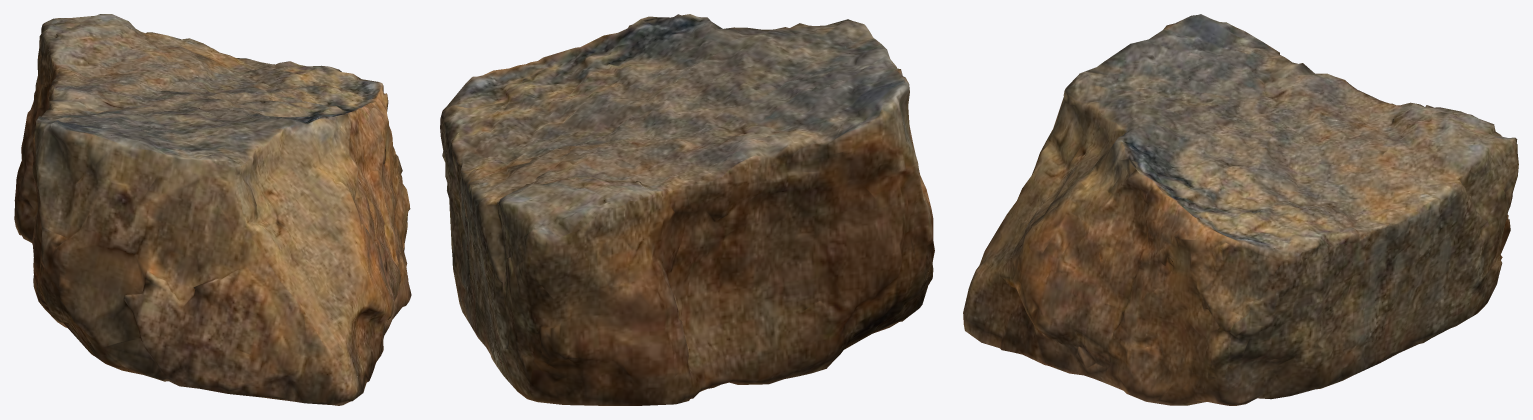
The model's file is boulder.glb.
3 views of the same model, side by side, from view 1: azimuth 30°, elevation 25°; view 2: azimuth 150°, elevation 25°; view 3: azimuth 270°, elevation 25° (orthographic). The views are drawn at different scales.
Parts seen in each view (by area): view 1: boulder_03_LOD0; view 2: boulder_03_LOD0; view 3: boulder_03_LOD0.
Part boxes in pixels (<box>): boulder_03_LOD0: <box>14,14,411,405</box>; boulder_03_LOD0: <box>440,14,934,405</box>; boulder_03_LOD0: <box>963,14,1518,405</box>.
Bounding box in the file's own units: 2.4 × 1.47 × 3.06.
Materials: 1 (1 with a texture image).
